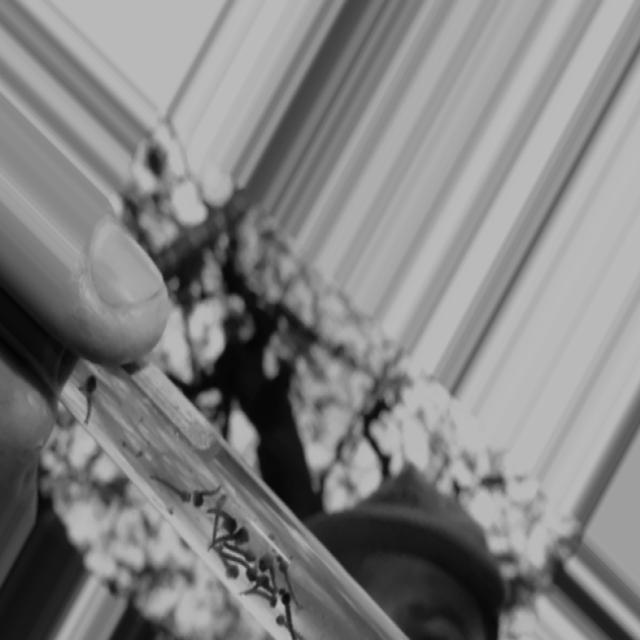larvas: (207, 521, 252, 554), (219, 546, 258, 584), (212, 545, 241, 585), (259, 551, 282, 597), (274, 609, 308, 640), (152, 476, 189, 504), (223, 538, 258, 567), (279, 551, 300, 596), (193, 480, 221, 509), (281, 587, 297, 634), (212, 493, 226, 545), (81, 375, 96, 421), (244, 572, 271, 597), (209, 505, 235, 528), (120, 438, 143, 458), (255, 593, 277, 606)
